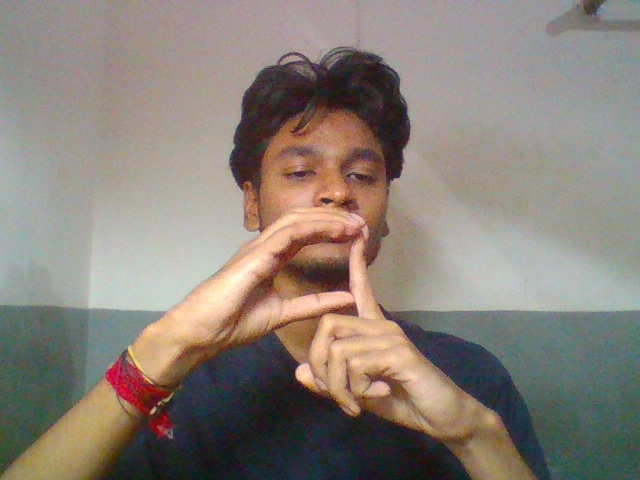D: (153, 207, 523, 453)
